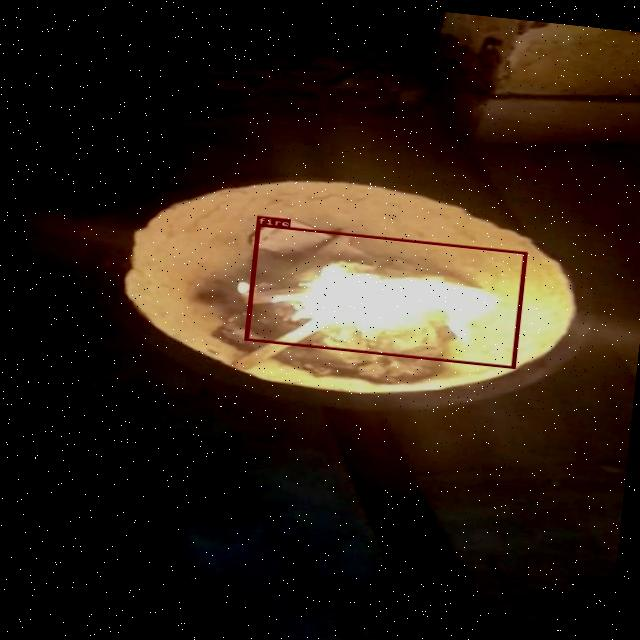fire: (243, 223, 526, 368)
